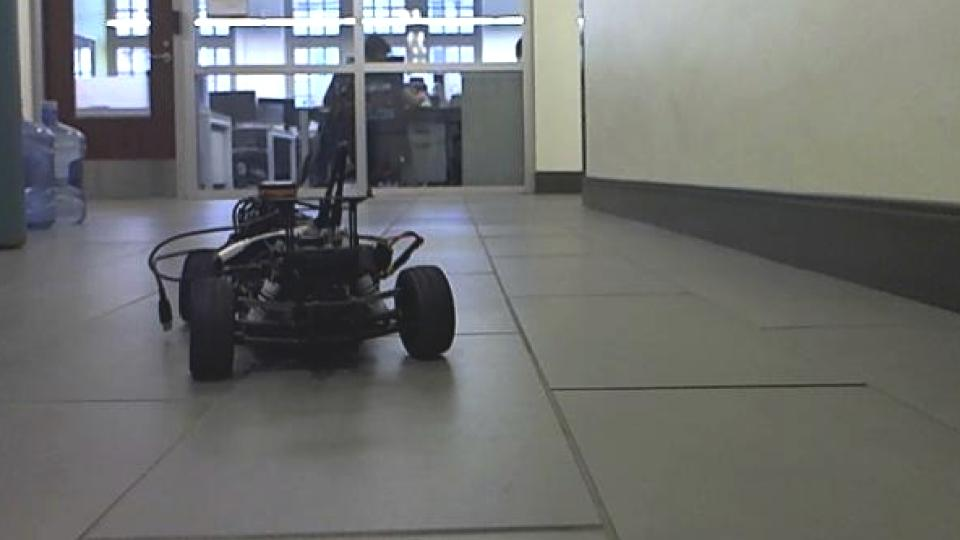car: (146, 140, 460, 384)
